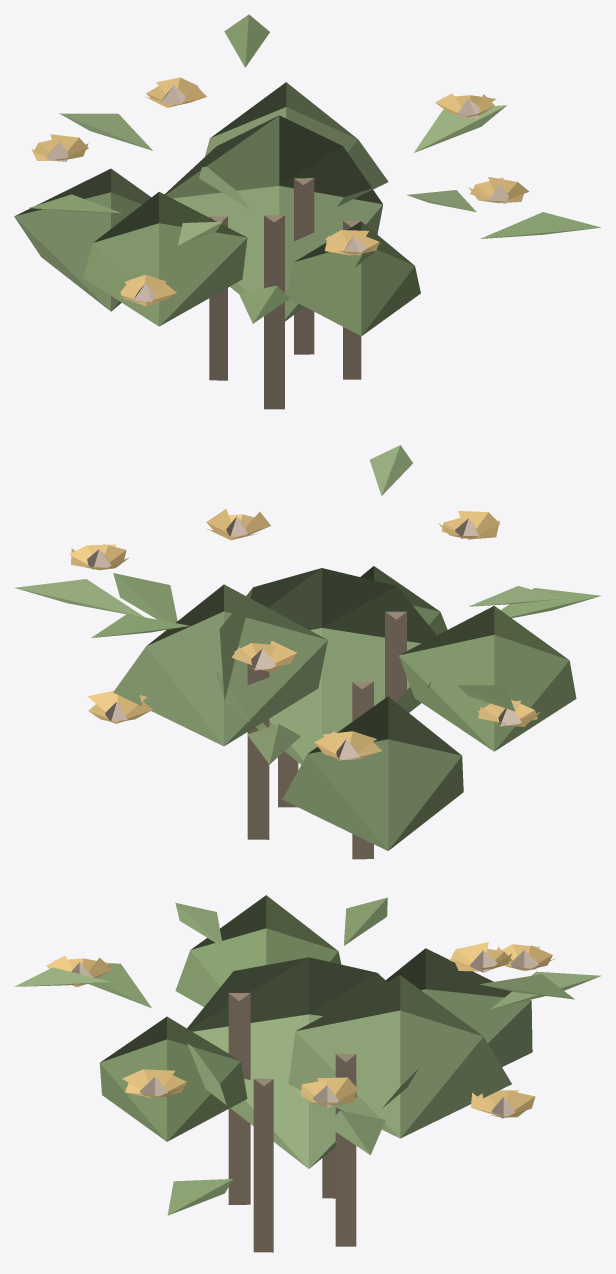
The model's file is guan.lianqiao@flowering__summer.glb.
3 views of the same model, one above another, from view 1: azimuth 30°, elevation 25°; view 2: azimuth 150°, elevation 25°; view 3: azimuth 270°, elevation 25° (orthographic). The views are drawn at different scales.
Visible parts, largest first — view 1: guan.lianqiao@flowering__summer; view 2: guan.lianqiao@flowering__summer; view 3: guan.lianqiao@flowering__summer.
Part boxes in pixels (<box>): guan.lianqiao@flowering__summer: <box>14,14,600,409</box>; guan.lianqiao@flowering__summer: <box>14,445,601,859</box>; guan.lianqiao@flowering__summer: <box>14,895,601,1252</box>.
Bounding box in the file's own units: 3.08 × 1.6 × 3.03.
